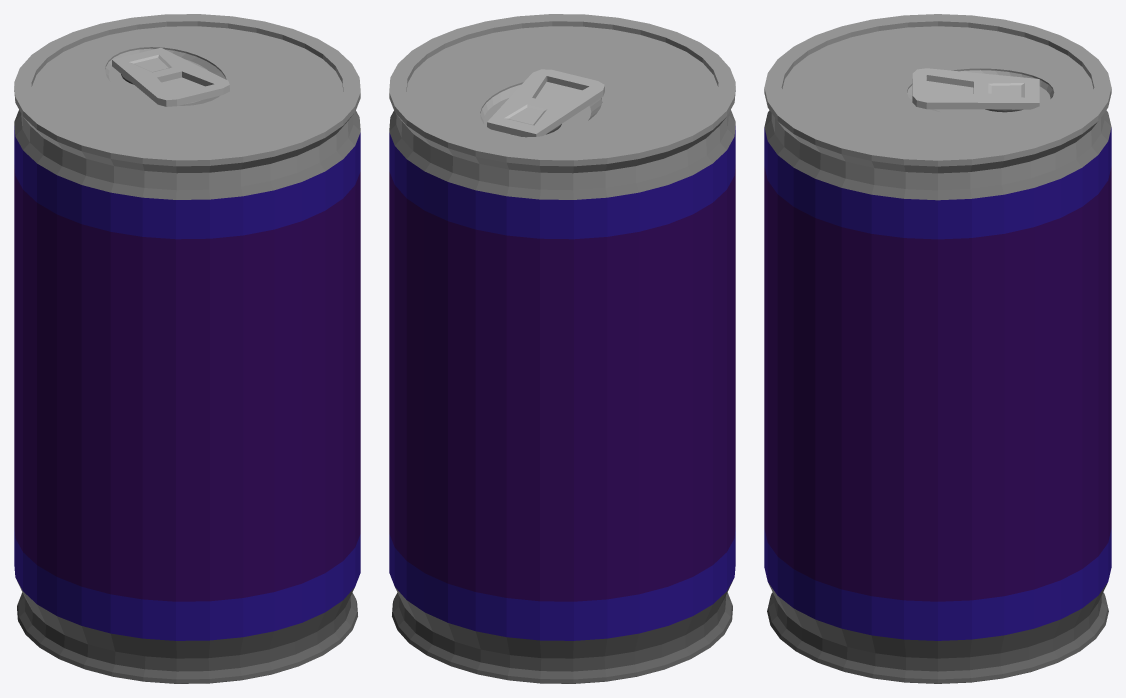
Rendered from Can of Grape.fbx.
3 views of the same model, side by side, from view 1: azimuth 30°, elevation 25°; view 2: azimuth 150°, elevation 25°; view 3: azimuth 270°, elevation 25° (orthographic).
Visible parts, largest first — view 1: Can of Grape; view 2: Can of Grape; view 3: Can of Grape.
Boxes of the visible parts, x1,y1,x2,y2 form: Can of Grape: (14,14,360,683); Can of Grape: (389,14,735,683); Can of Grape: (764,14,1111,683).
Bounding box in the file's own units: 15.54 × 26.08 × 15.54.
1 material, 1 textured.
